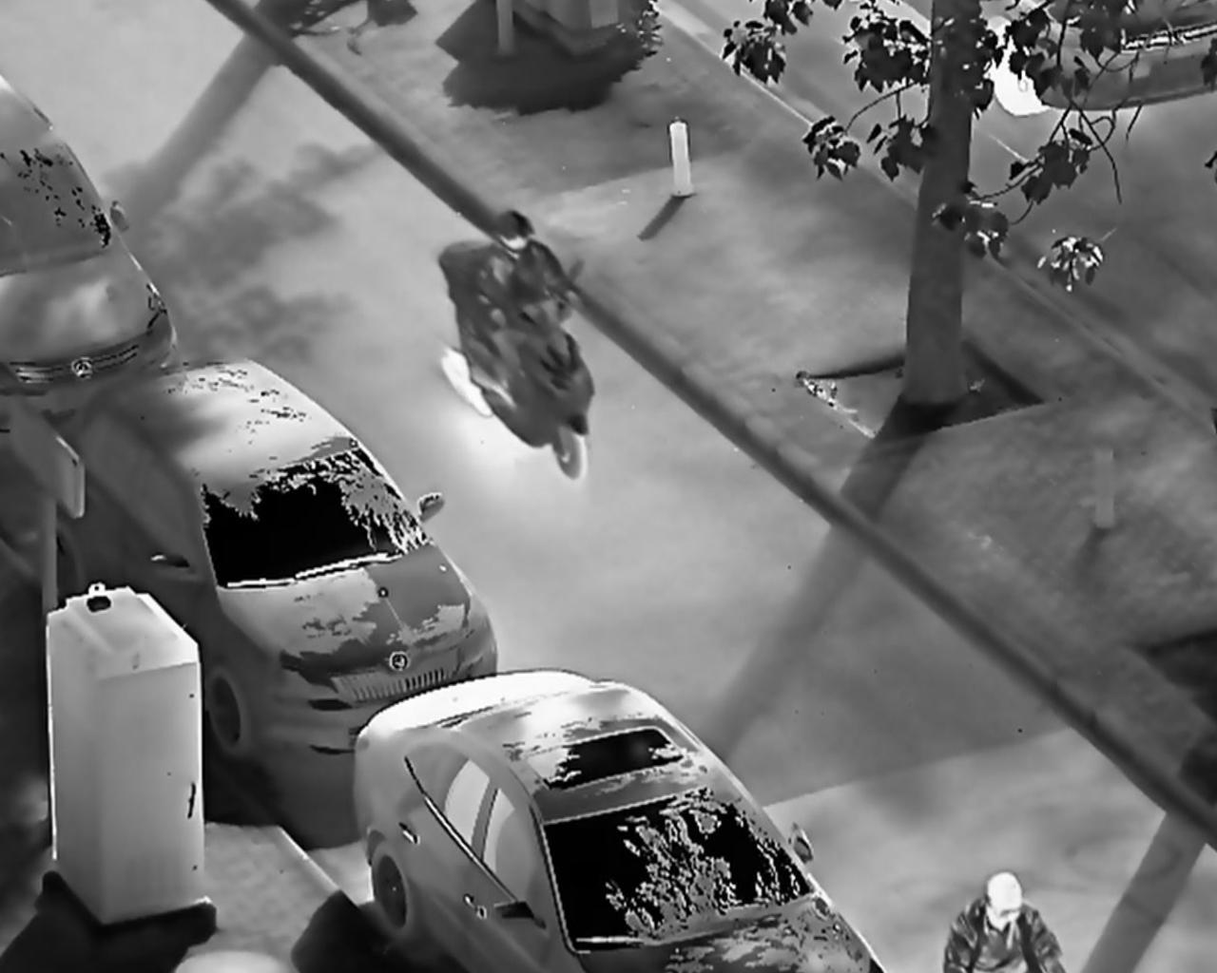person: (474, 210, 572, 367), (940, 865, 1067, 973)
